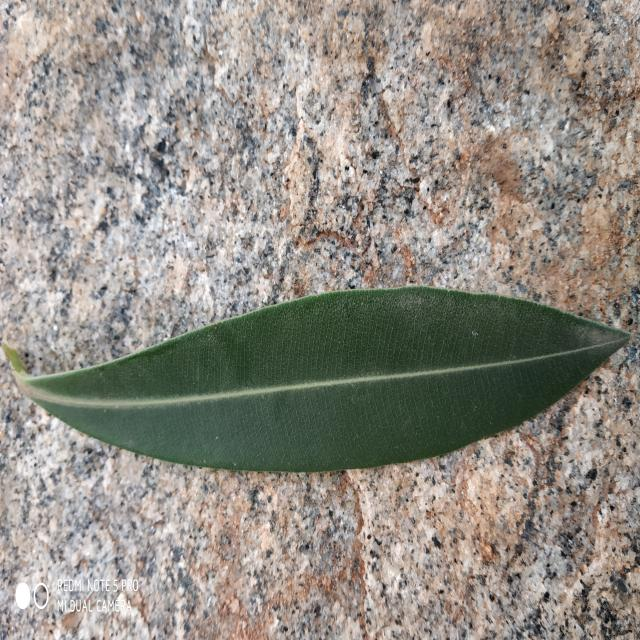ganigale: (6, 287, 630, 471)
